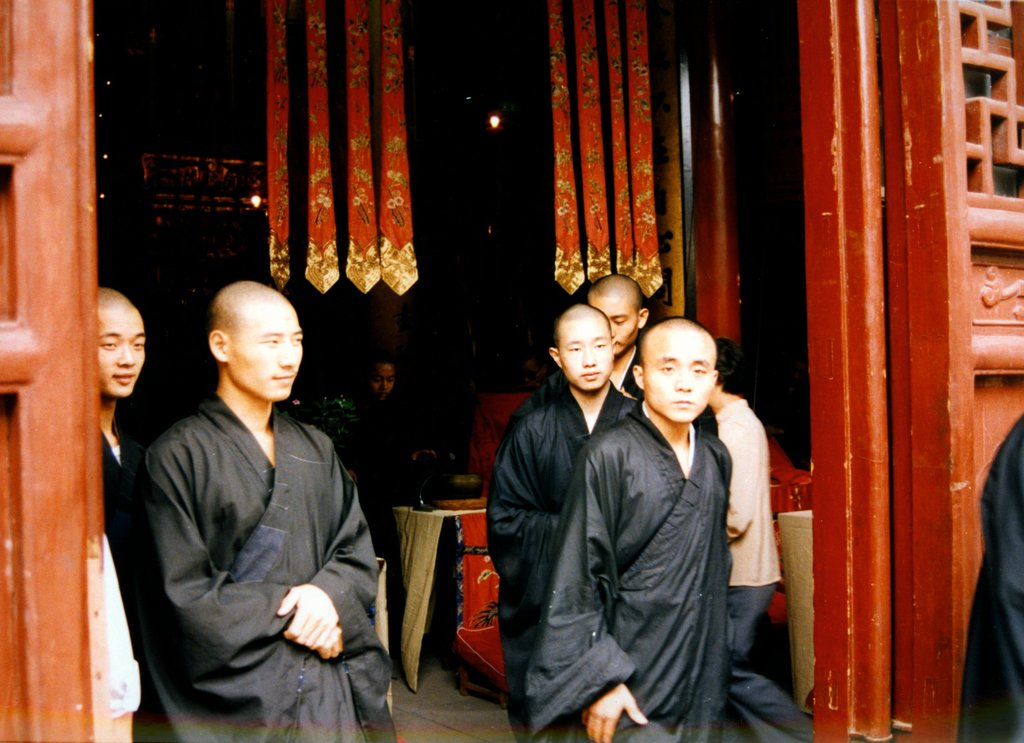Person: (143, 280, 390, 743), (528, 313, 739, 741), (484, 304, 645, 742), (707, 338, 814, 743), (99, 283, 149, 743), (587, 274, 649, 403)
